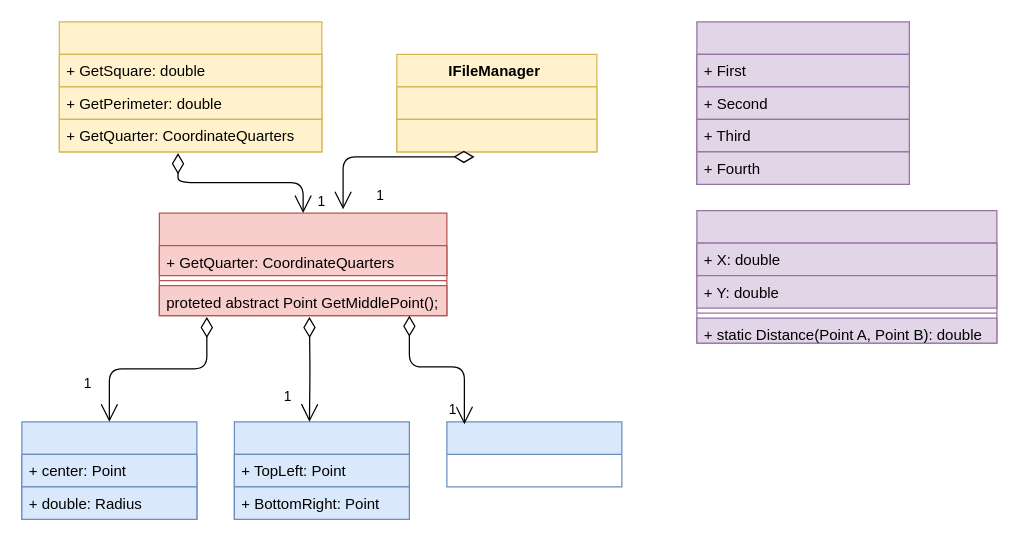
Image size: 1019x545. Some labels were removed from this diagram. The box of each missing label's shape, as (x1, y1, x2, y2) in pixels:
+ Read(Stream): void: (396, 86, 597, 119)
+ Write(Stream): void: (396, 118, 597, 152)
Circle: (21, 421, 197, 519)
enum CoordinateQuarters: (696, 21, 909, 184)
IShape: (58, 21, 322, 152)
ShapeBase: (158, 212, 447, 316)
Square: (233, 421, 409, 519)
struct Point: (696, 209, 997, 343)
Triangle: (446, 421, 622, 487)
